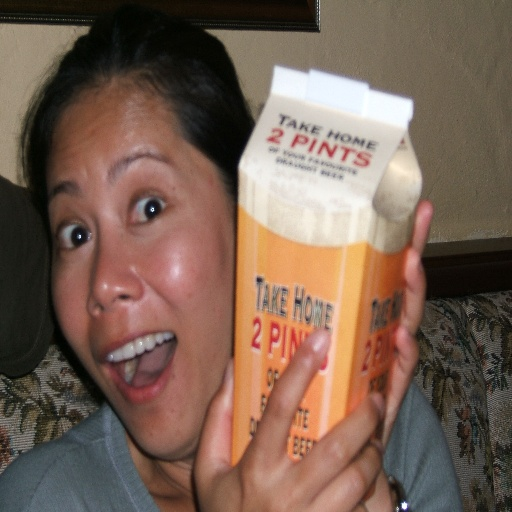hand: (185, 323, 391, 491), (372, 196, 436, 464)
